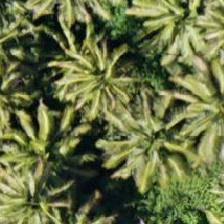Kelapa_Sawit: (55, 31, 145, 121), (102, 95, 192, 185), (0, 104, 90, 194), (0, 149, 83, 223), (141, 0, 223, 61), (169, 60, 223, 151)
